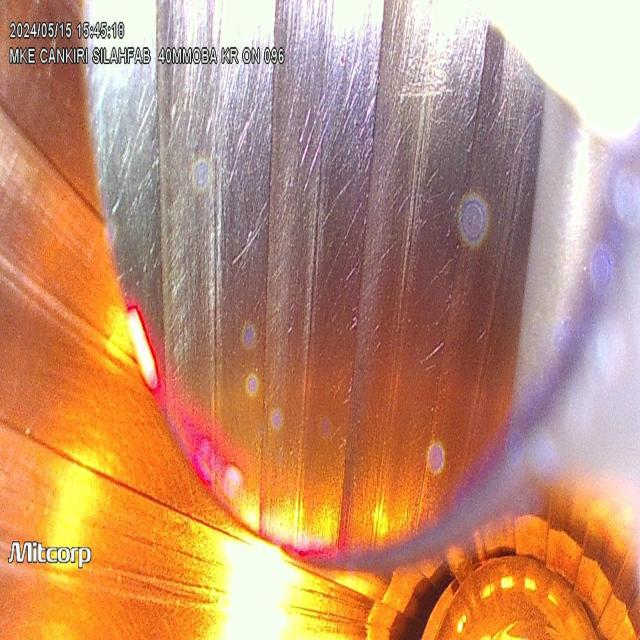hata_8.1: (100, 75, 174, 214), (188, 83, 275, 198), (159, 179, 194, 392), (286, 79, 339, 201), (313, 192, 371, 300), (364, 110, 420, 212), (220, 189, 278, 285), (500, 88, 552, 170), (317, 158, 363, 236), (338, 28, 381, 104), (408, 316, 458, 381), (351, 68, 388, 148), (394, 68, 459, 113), (372, 228, 406, 285), (426, 247, 458, 299), (224, 242, 276, 265)
